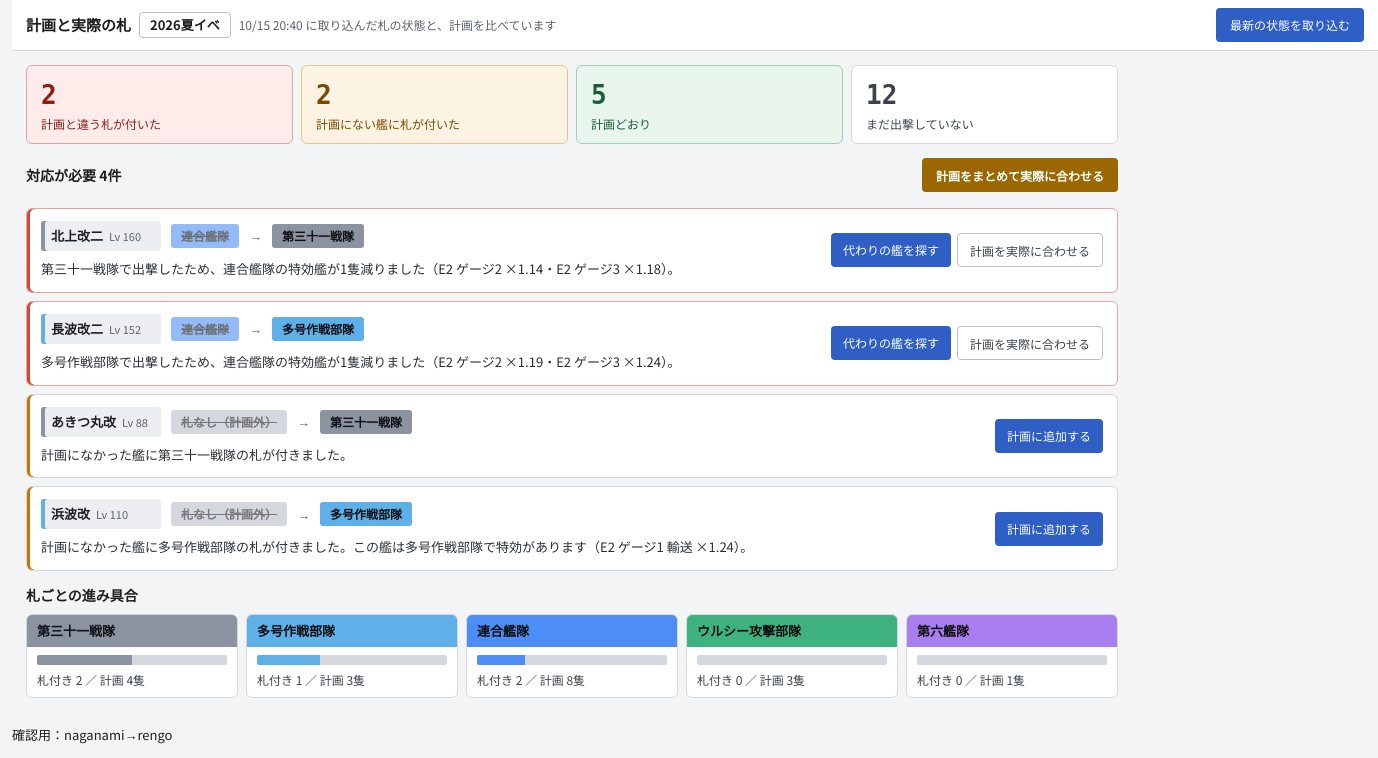
Test: 差分の画面（DriftPageContent） › まとめて反映（「計画をまとめて実際に合わせる」） › 確認の枠（role=group、名前「まとめて合わせる確認」）に説明・1 件ずつのチェック（初期は全部 ON、艦名と「計画 A → B」）・注意書き・「4件を計画に反映する」・「やめる」を出す
Expected: the list named "件数のまとめ" is shown, [26,65,1118,144]
Click the button "計画をまとめて実際に合わせる" at (1020, 175), box [922,158,1118,192]
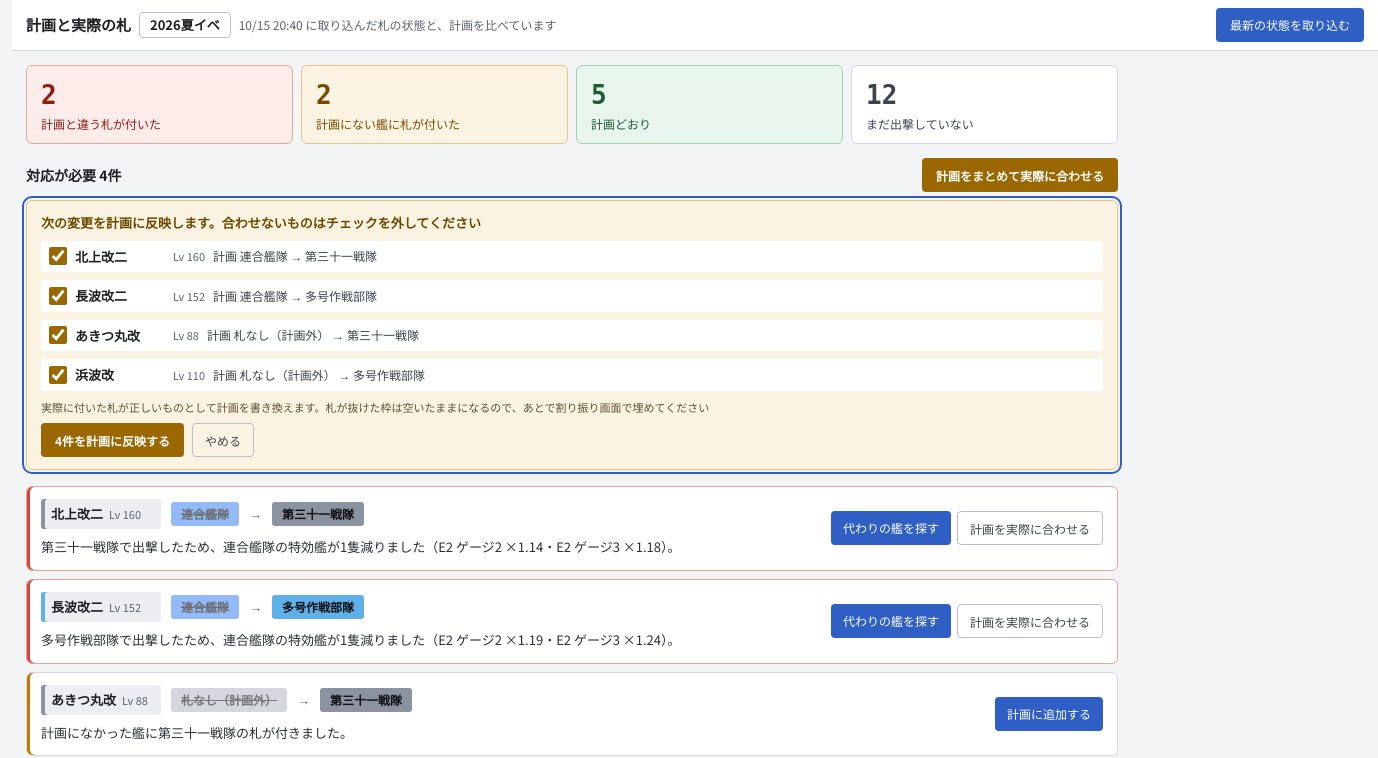
Now the element named "まとめて合わせる確認" shows "次の変更を計画に反映します。合わせないものはチェックを外してください", box [41,213,481,232]
Now the element named "まとめて合わせる確認" shows "実際に付いた札が正しいものとして計画を書き換えます。札が抜けた枠は空いたままになるので、あとで割り振り画面で埋めてください", box [41,398,709,414]
Now the number of checkboxes is 4, box [49,247,67,265]; [49,287,67,305]; [49,326,67,344]; [49,366,67,384]
